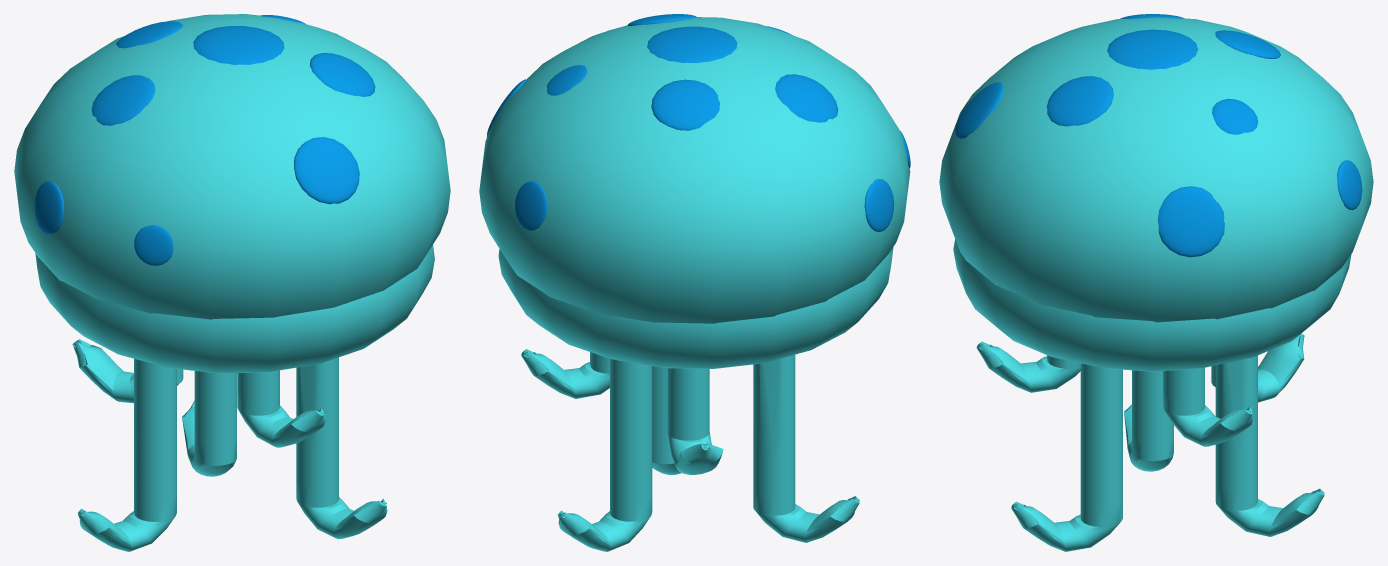
File: JellyFish_Blue_Platform 2.fbx
The picture shows the model from 3 angles, left to right: view 1: azimuth 30°, elevation 25°; view 2: azimuth 150°, elevation 25°; view 3: azimuth 270°, elevation 25°; orthographic projection.
Visible parts, largest first — view 1: pCylinder7; view 2: pCylinder7; view 3: pCylinder7.
Part boxes in pixels (x1,y1,x2,y2): pCylinder7: (14, 14, 450, 551); pCylinder7: (479, 14, 910, 551); pCylinder7: (939, 14, 1373, 551).
Size of the model in its own units: 1.17 by 1.41 by 1.17.
